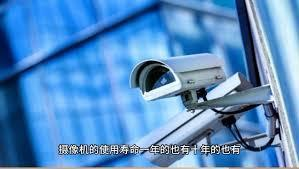tutu: (128, 72, 261, 169), (126, 50, 228, 104)
